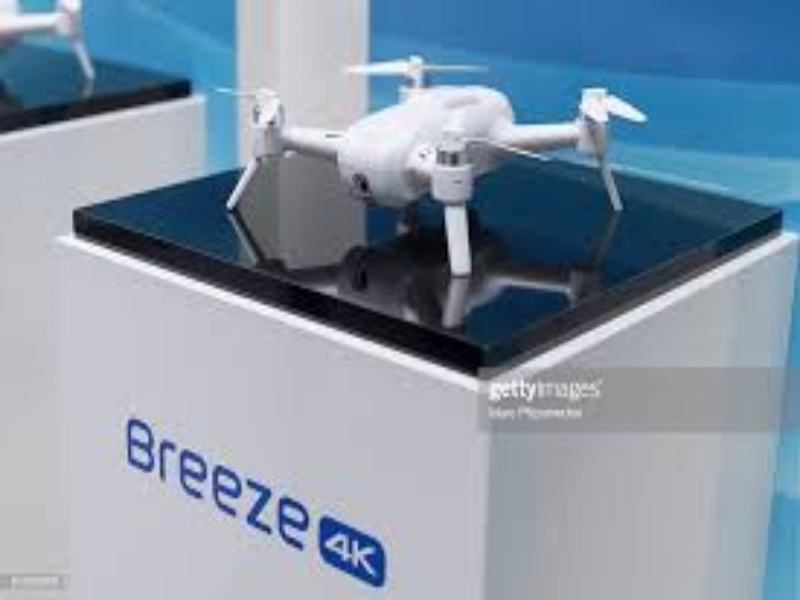drone: (214, 42, 655, 287)
